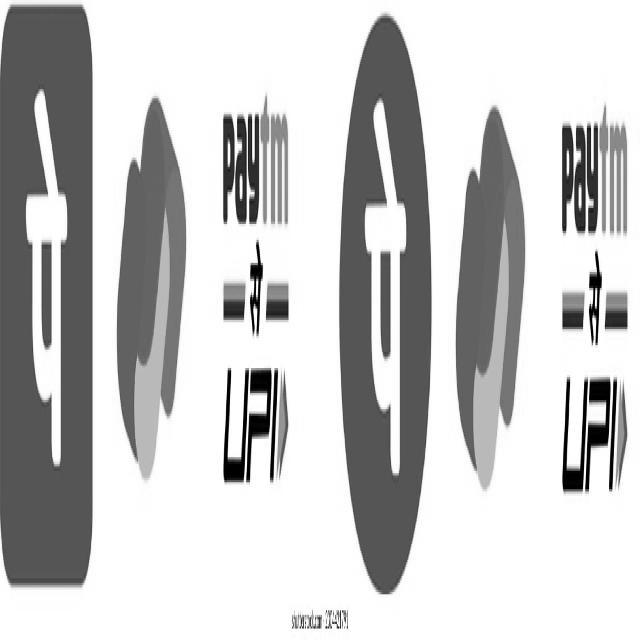fully_visible: (546, 100, 635, 277), (215, 66, 293, 256)
